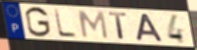4: (164, 14, 188, 45)
A: (135, 13, 165, 43)
G: (24, 6, 52, 39)
L: (52, 8, 78, 39)
M: (77, 10, 110, 41)
T: (107, 11, 129, 41)
